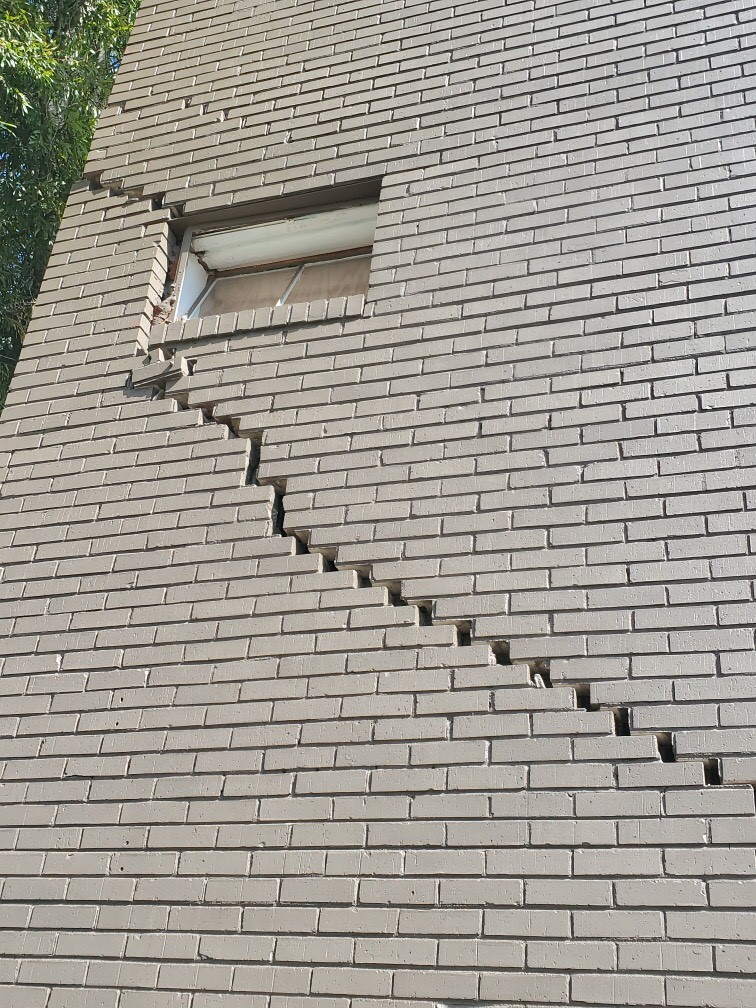stairstep_crack: (122, 336, 755, 794), (104, 85, 258, 135), (64, 160, 186, 220)
